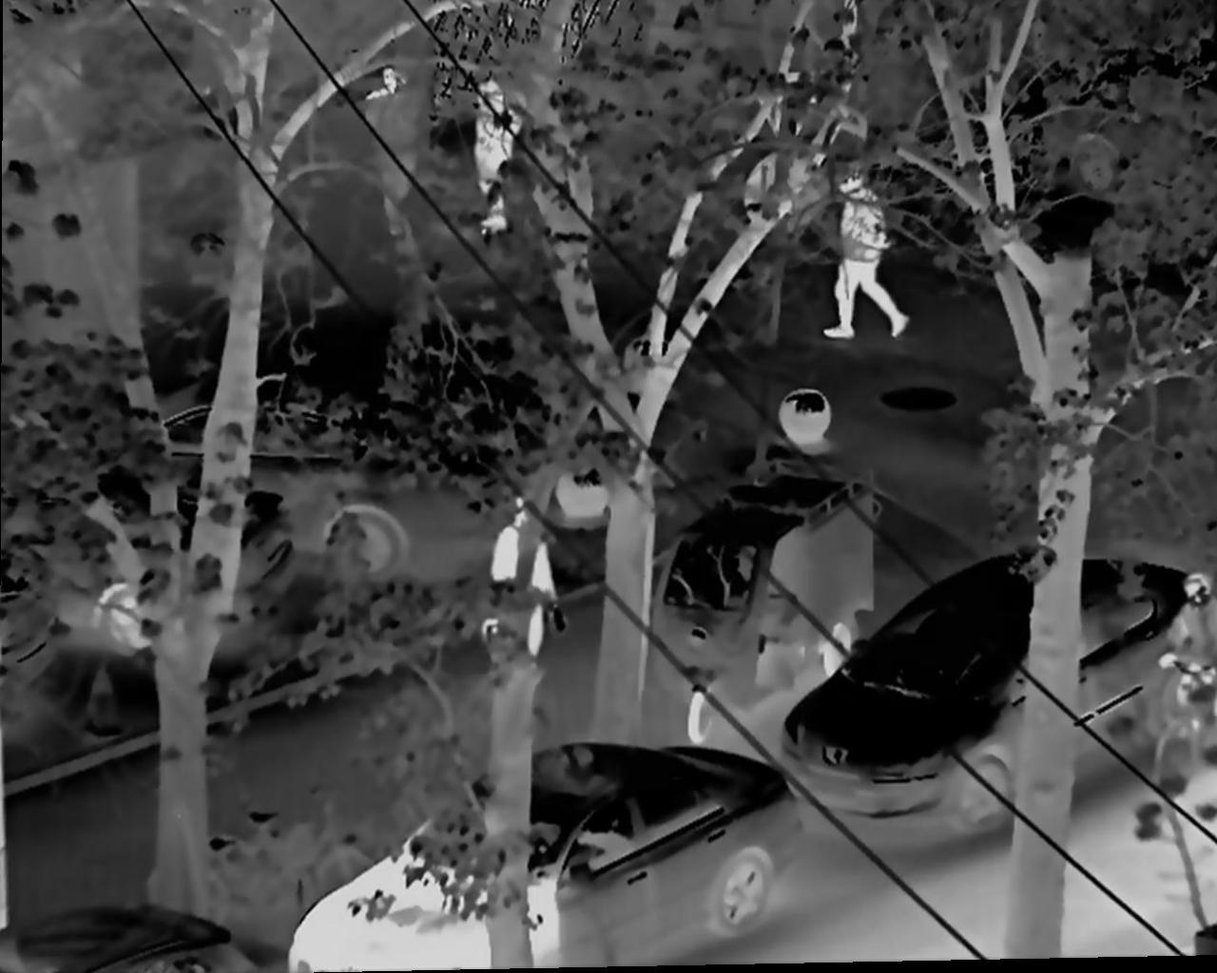person: (482, 480, 559, 702), (821, 147, 907, 345), (460, 81, 526, 247)
